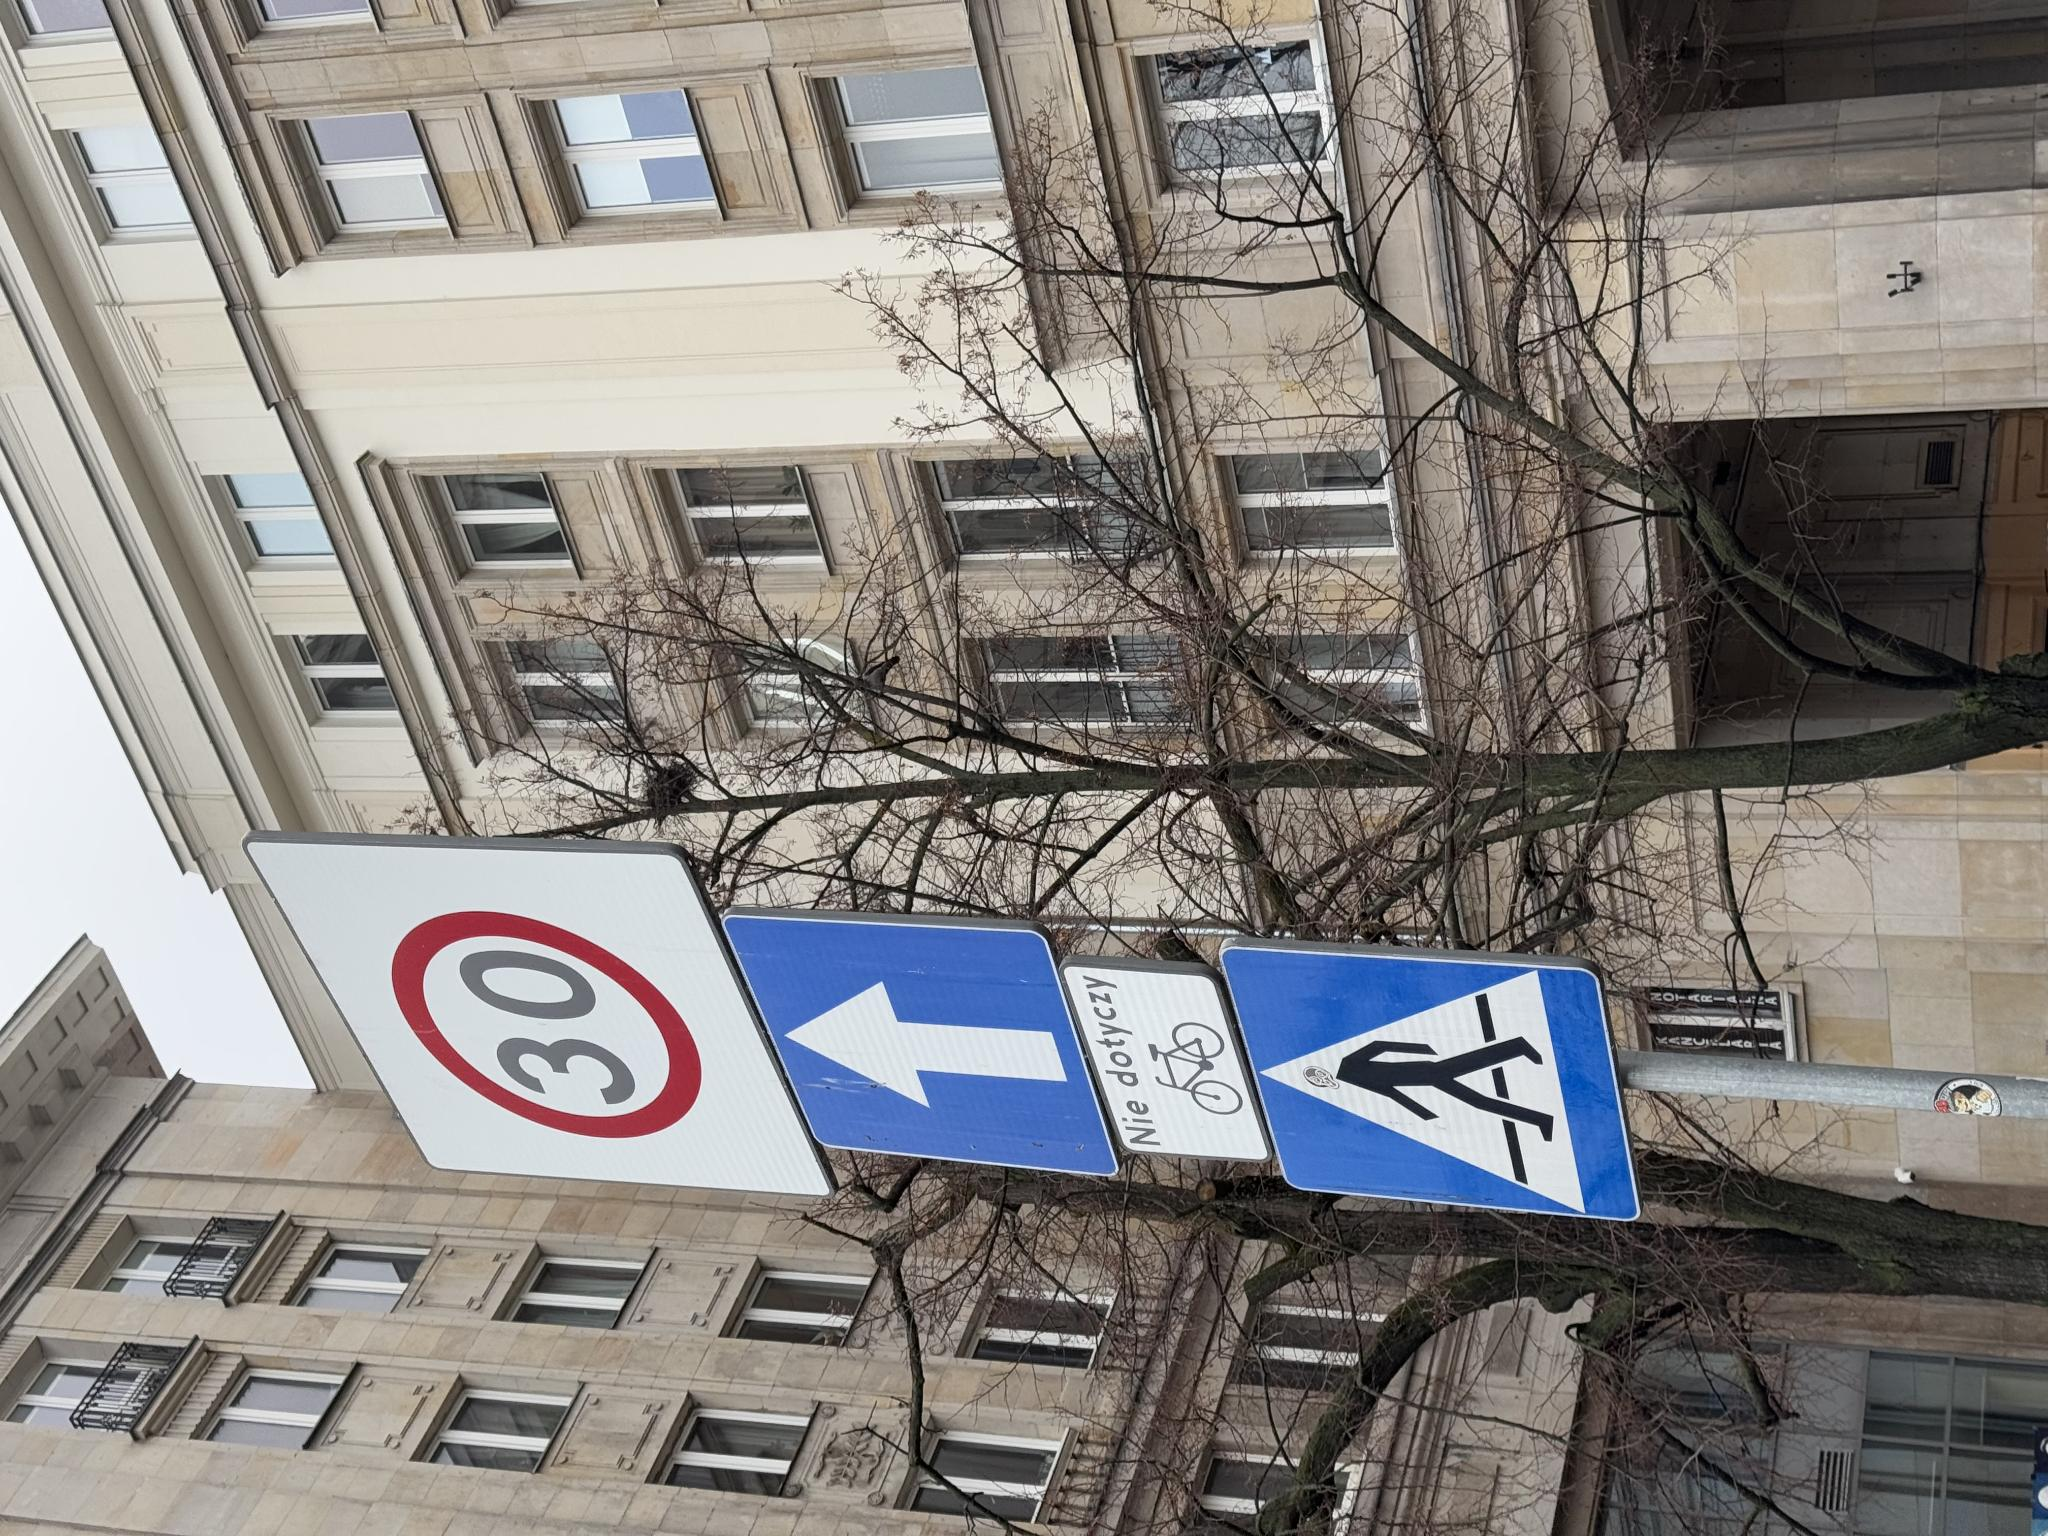information: (355, 716, 627, 1120), (314, 1220, 597, 1536)
prohibitory: (393, 384, 631, 707)
